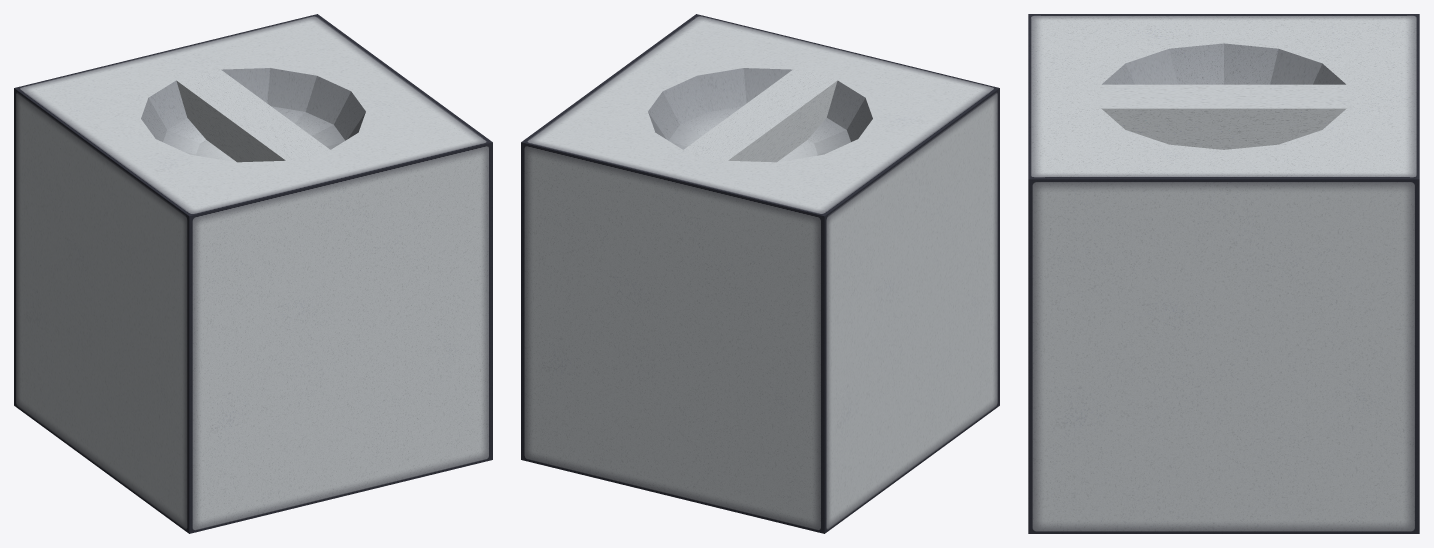
File: Block_Handle.fbx
3 renders of one model, left to right at view 1: azimuth 30°, elevation 25°; view 2: azimuth 150°, elevation 25°; view 3: azimuth 270°, elevation 25°, orthographic. The views are drawn at different scales.
Visible parts, largest first — view 1: HandleBlock; view 2: HandleBlock; view 3: HandleBlock.
Part boxes in pixels (bbox=[...]): HandleBlock: bbox=[14, 14, 492, 533]; HandleBlock: bbox=[521, 14, 999, 533]; HandleBlock: bbox=[1028, 14, 1419, 533].
Bounding box in the file's own units: 0.01 × 0.01 × 0.01.
Materials: 3 (2 with a texture image).
